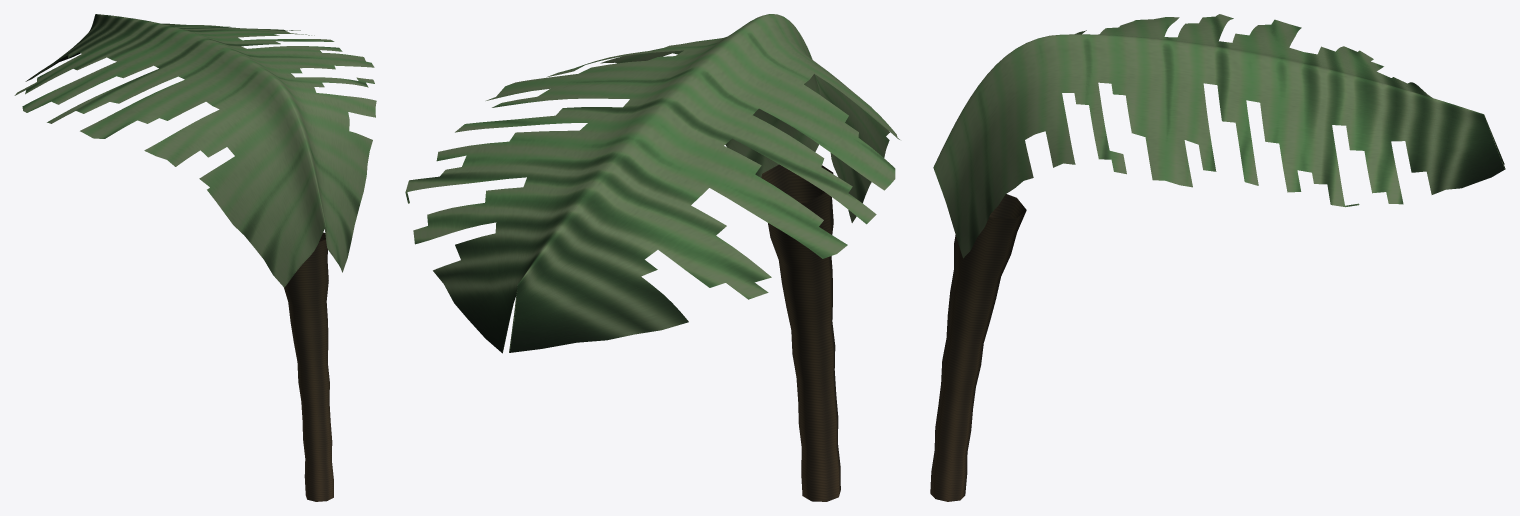
The model's file is Riesenblatt_3.fbx.
The picture shows the model from 3 angles, left to right: view 1: azimuth 30°, elevation 25°; view 2: azimuth 150°, elevation 25°; view 3: azimuth 270°, elevation 25°; orthographic projection. The views are drawn at different scales.
Parts seen in each view (by area): view 1: Riesenblatt3; view 2: Riesenblatt3; view 3: Riesenblatt3.
Boxes of the visible parts, x1=… form: Riesenblatt3: x1=14, y1=14, x2=376, y2=501; Riesenblatt3: x1=405, y1=14, x2=899, y2=501; Riesenblatt3: x1=930, y1=14, x2=1505, y2=501.
Bounding box in the file's own units: 1.48 × 1.8 × 2.03.
